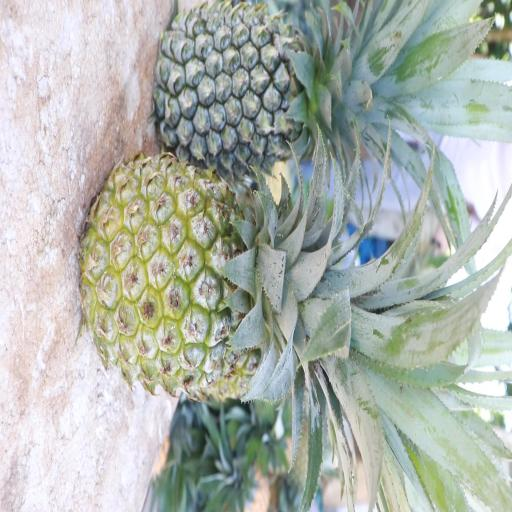------------------------------: (76, 152, 365, 404)
